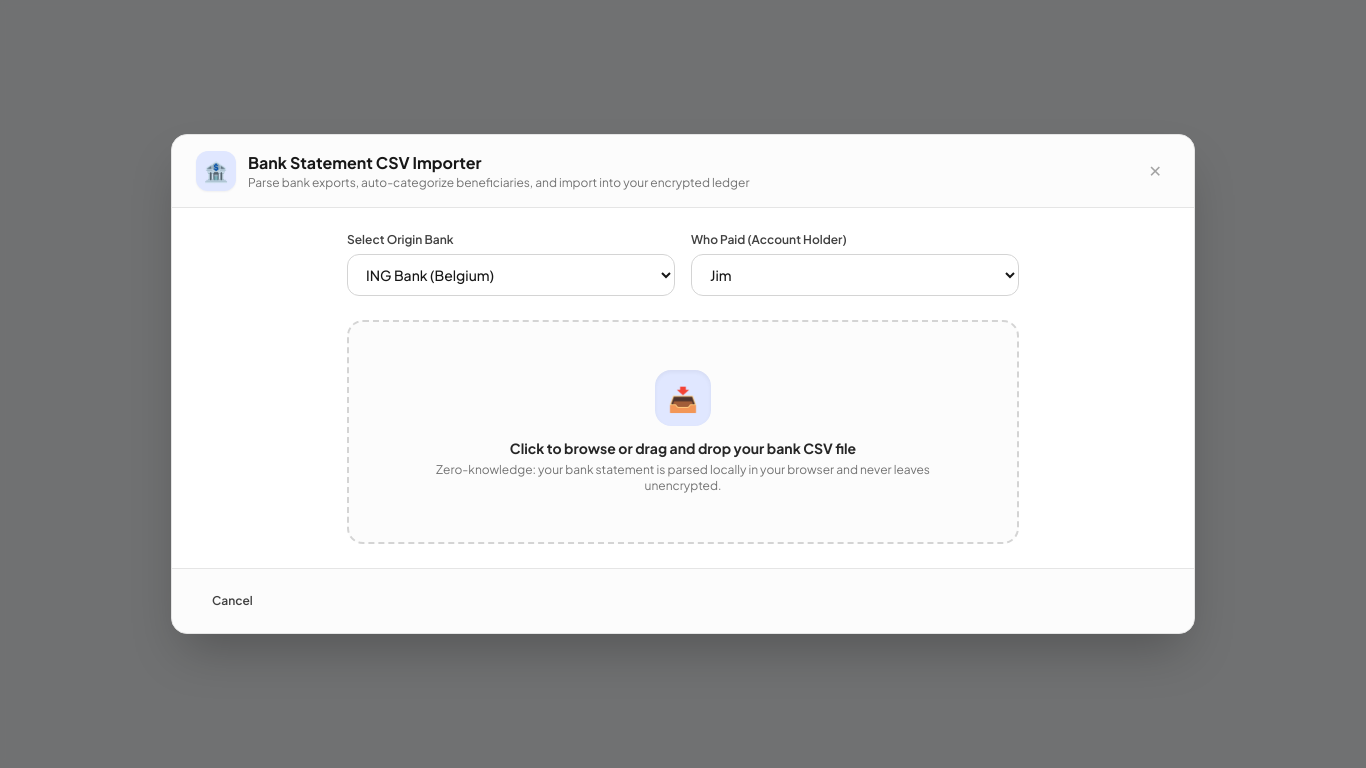
Test: BankCsvImportModal.svelte — Bank Statement CSV Importer › shows warning when KBC Bank is selected
Select "KBC Bank (Belgium) — Coming Soon" in the dropdown labelled "Select Origin Bank": (511, 275) [347,254,675,296]
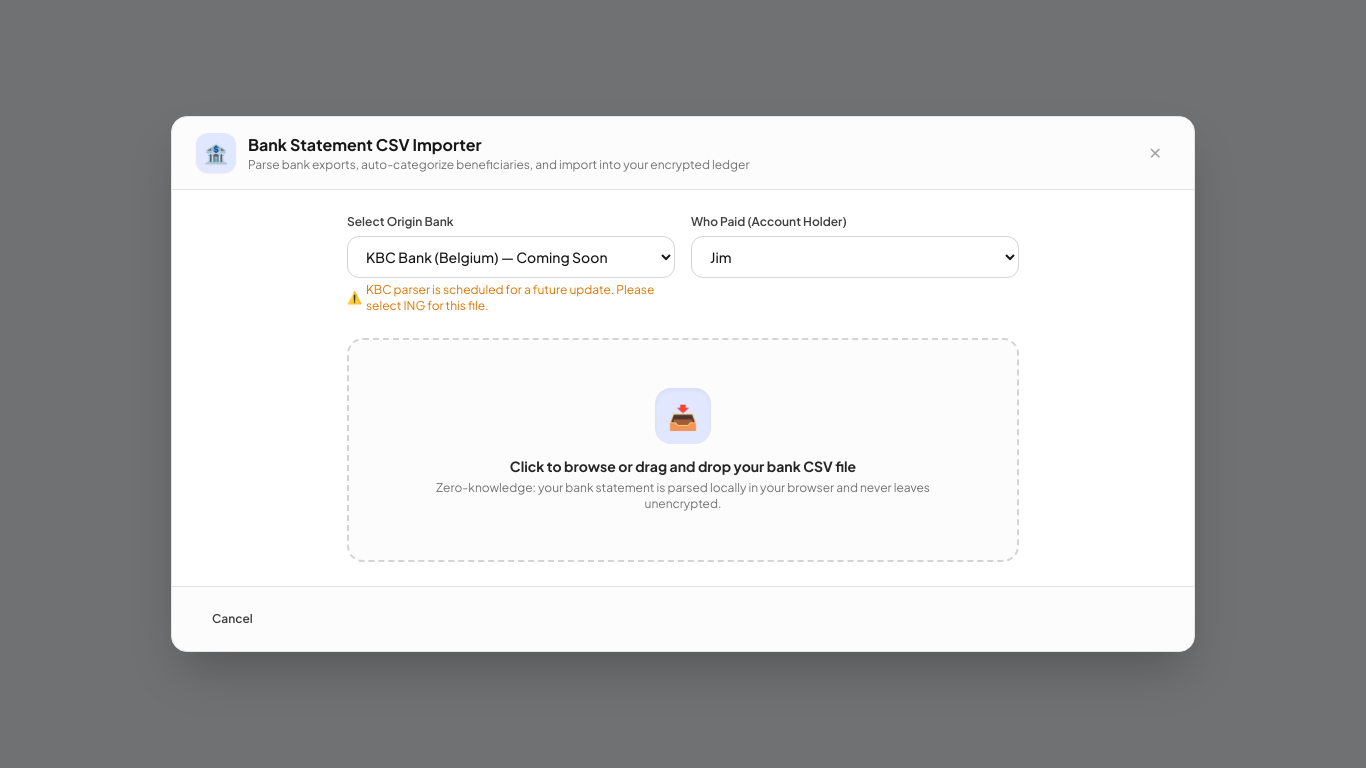
expect the text "KBC parser is scheduled for a future update" is shown: met, box [366,282,654,313]
